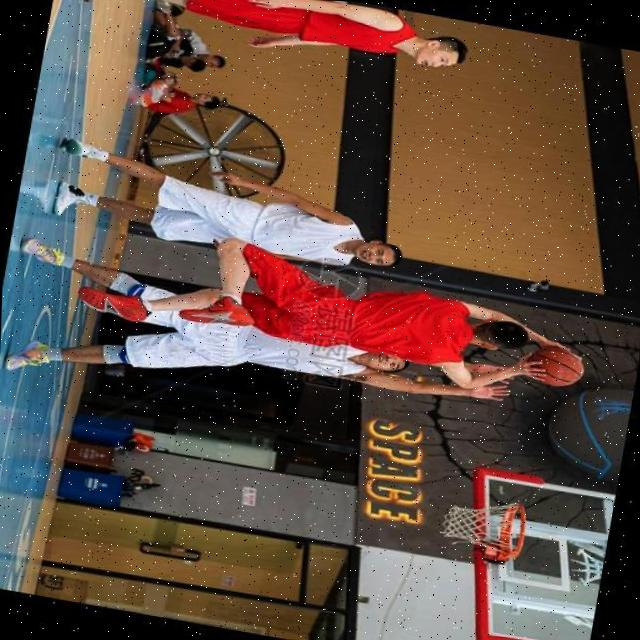ball: (524, 342, 585, 390)
